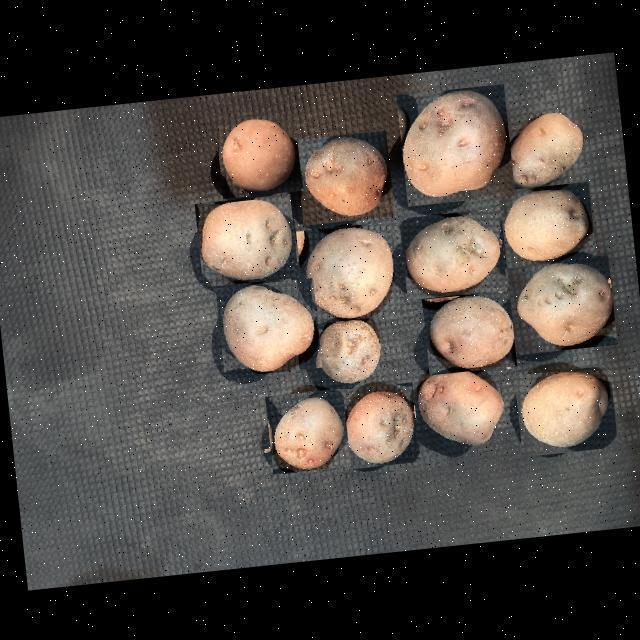potato: (395, 83, 514, 206), (505, 254, 616, 354), (295, 220, 400, 324), (214, 277, 321, 377), (398, 207, 506, 299), (193, 193, 297, 287), (513, 364, 617, 456), (293, 130, 393, 225), (412, 361, 509, 458), (497, 181, 595, 268), (501, 106, 593, 195), (421, 289, 516, 374), (214, 112, 302, 198), (264, 387, 350, 473), (335, 381, 419, 469), (310, 308, 389, 389)
